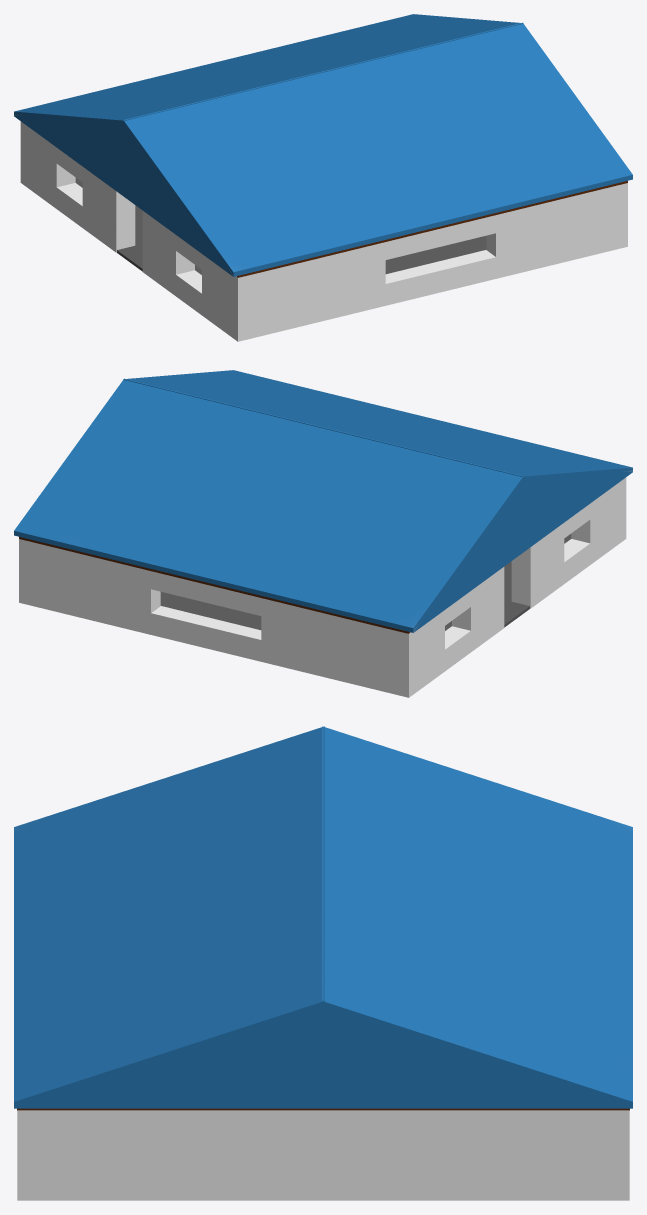
The model's file is Gudang.fbx.
The picture shows the model from 3 angles, top to bottom: view 1: azimuth 30°, elevation 25°; view 2: azimuth 150°, elevation 25°; view 3: azimuth 270°, elevation 25°; orthographic projection. The views are drawn at different scales.
Visible parts, largest first — view 1: Cube; view 2: Cube; view 3: Cube.
Part boxes in pixels (<box>): Cube: <box>14,14,632,341</box>; Cube: <box>14,370,632,697</box>; Cube: <box>14,726,632,1200</box>.
Bounding box in the file's own units: 3221 × 1107 × 3066.
1 material, 1 textured.
